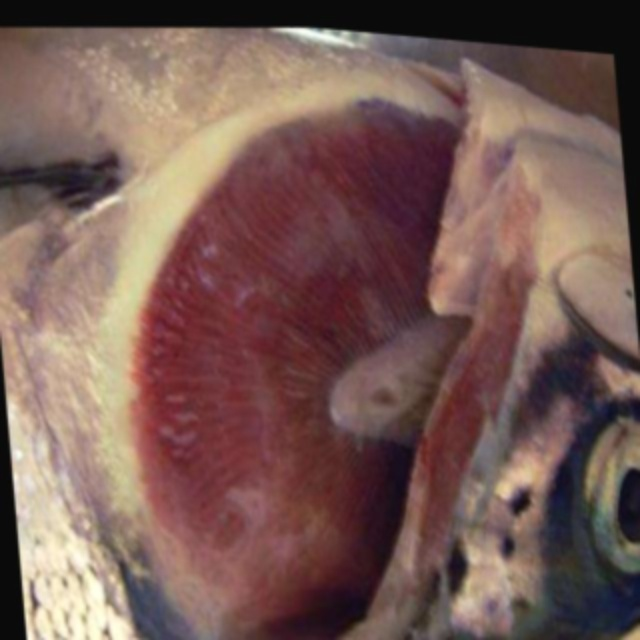Gill Disease: (5, 31, 640, 640)
